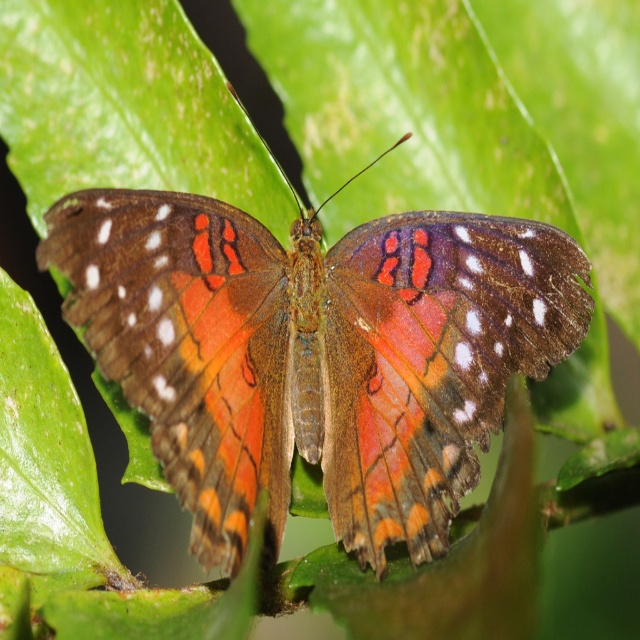Butterfly: (40, 101, 596, 597)
